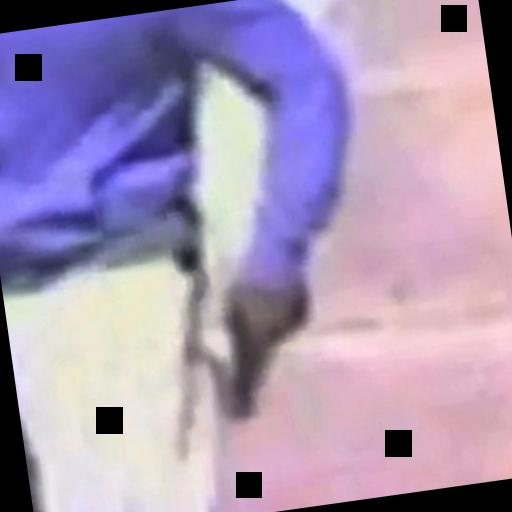Handgun: (198, 276, 324, 428)
